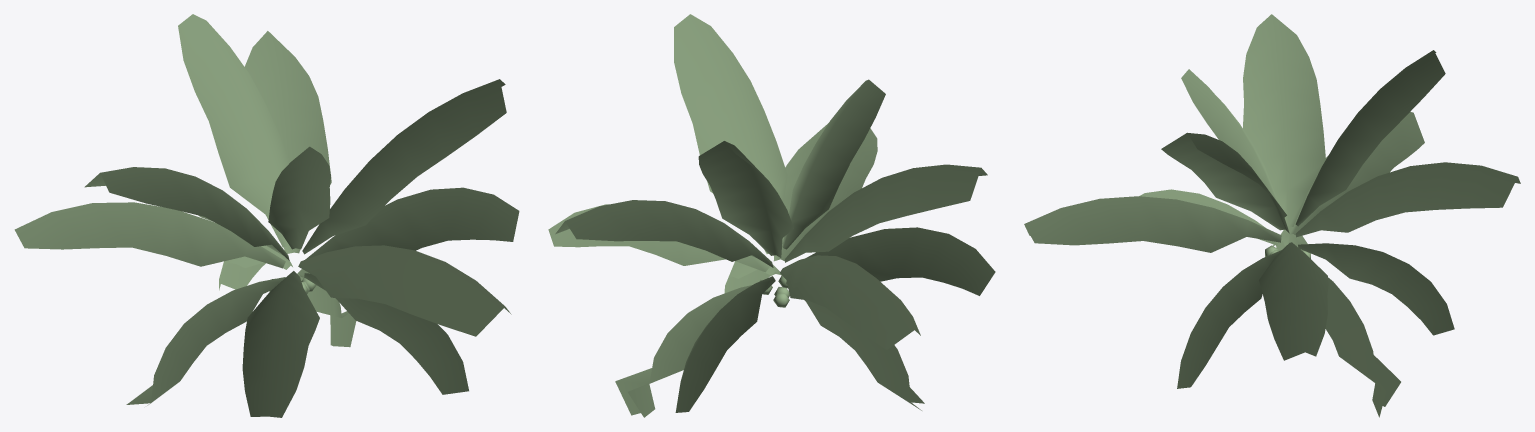
Rendered from palm_mid_crown.glb.
The picture shows the model from 3 angles, left to right: view 1: azimuth 30°, elevation 25°; view 2: azimuth 150°, elevation 25°; view 3: azimuth 270°, elevation 25°; orthographic projection. The views are drawn at different scales.
Parts seen in each view (by area): view 1: palm_mid_crown; view 2: palm_mid_crown; view 3: palm_mid_crown.
Boxes of the visible parts, left/top/right/bottom form: palm_mid_crown: left=14, top=14, right=519, bottom=417; palm_mid_crown: left=548, top=14, right=995, bottom=417; palm_mid_crown: left=1024, top=14, right=1520, bottom=417.
Size of the model in its own units: 7.56 by 5.55 by 8.03.
